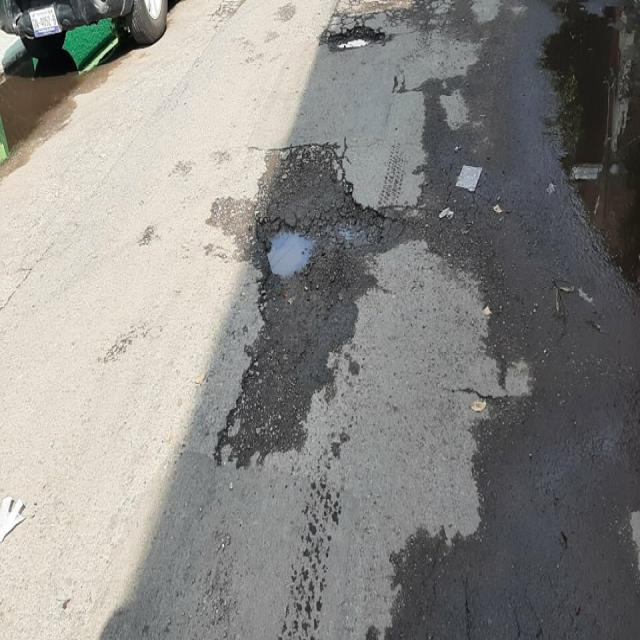Pothole: (248, 185, 415, 315), (321, 17, 412, 96)
